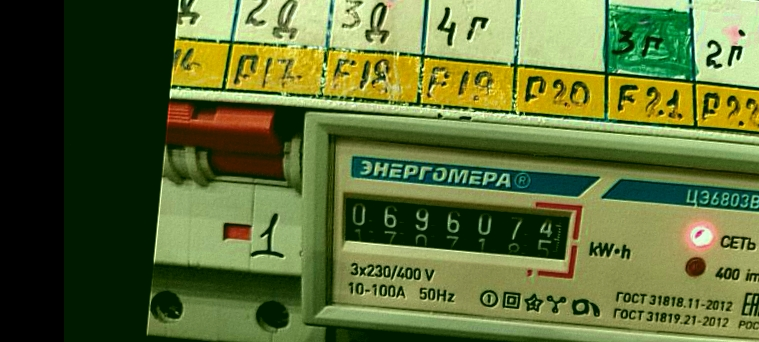0: (349, 200, 371, 227), (476, 210, 495, 237)
4: (538, 215, 556, 238)
5: (536, 237, 554, 259)
6: (444, 206, 464, 235), (381, 202, 402, 229)
7: (508, 214, 526, 241)
9: (413, 204, 432, 232)
screen: (328, 179, 588, 283)
